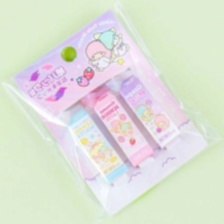carton: (92, 88, 156, 168), (118, 72, 182, 150), (65, 107, 128, 180)
